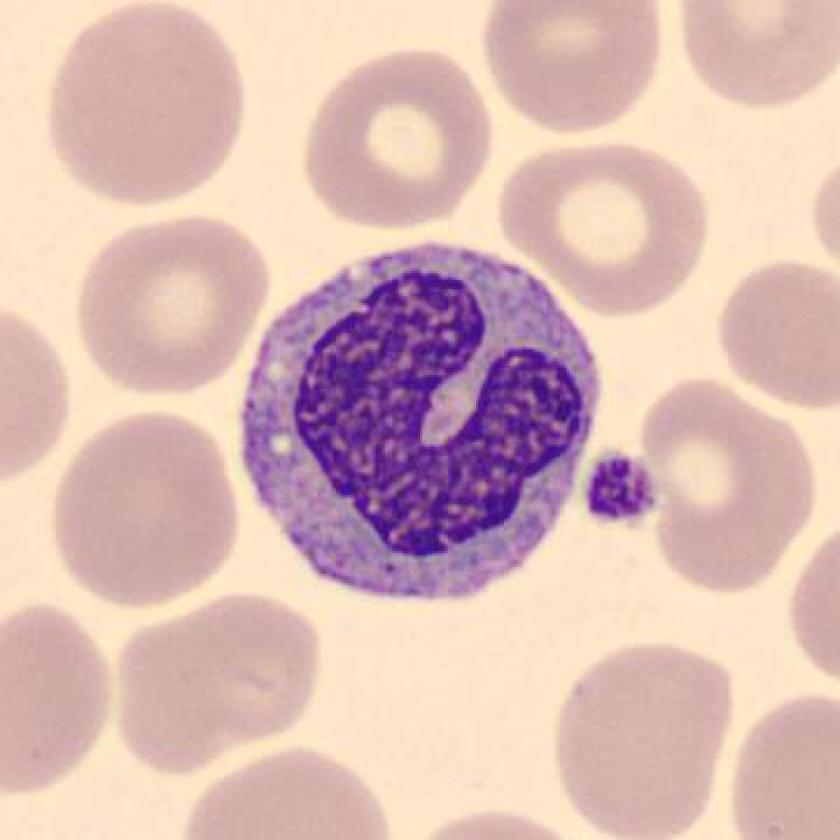monocyte: (227, 221, 617, 621)
